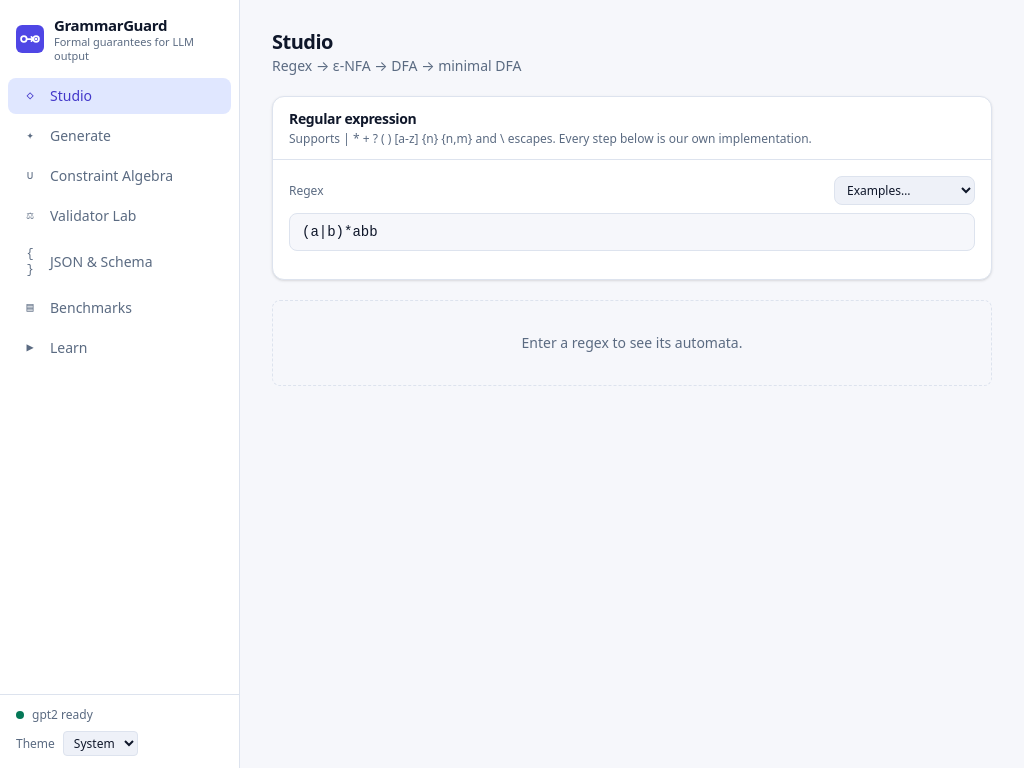
it: App shell › navigates between pages by hash and shows the model status
The width and height of the screenshot is (1024, 768).
Expected: the heading "Studio" is shown, [272,28,333,55]
Expected: the text "gpt2 ready" is shown, [16,707,93,723]
Click the link "⚖ Validator Lab". click: {"x": 81, "y": 216}
box: [26,206,136,225]
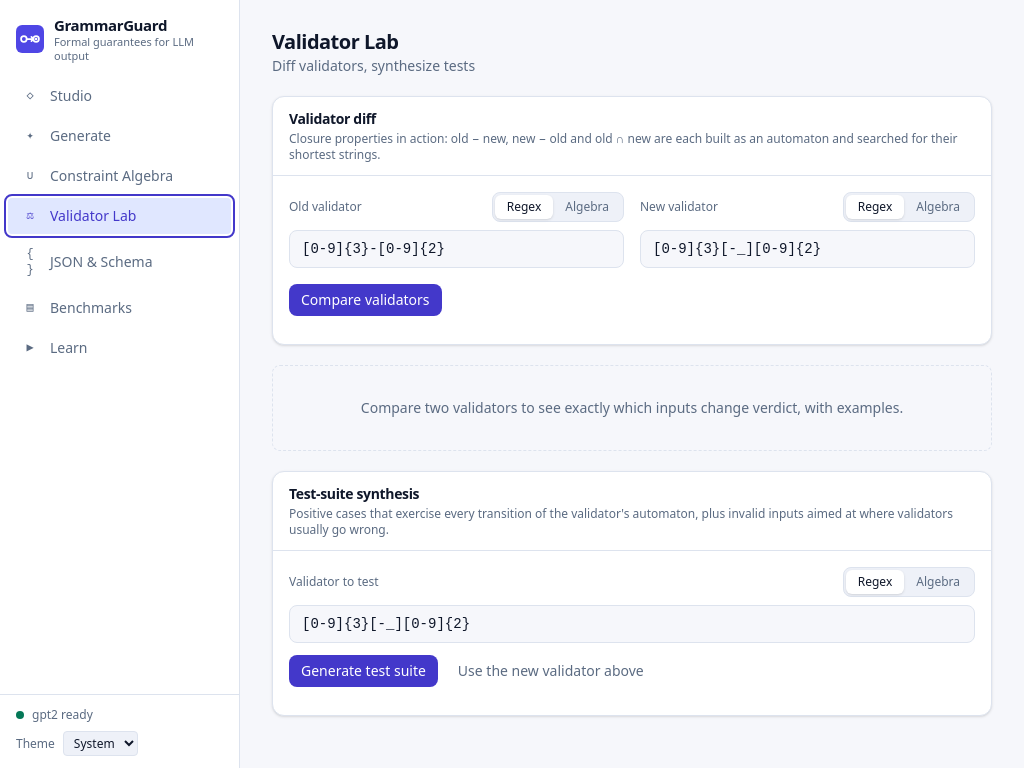
Now the heading "Validator Lab" is shown, box [272,28,398,55]
